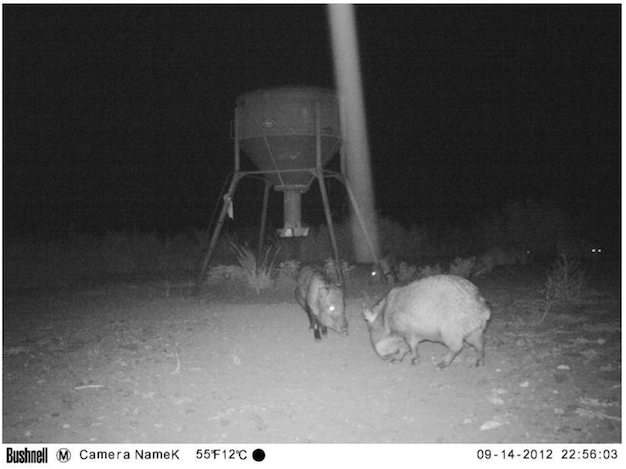javelina: (366, 274, 503, 370), (289, 257, 358, 357)
